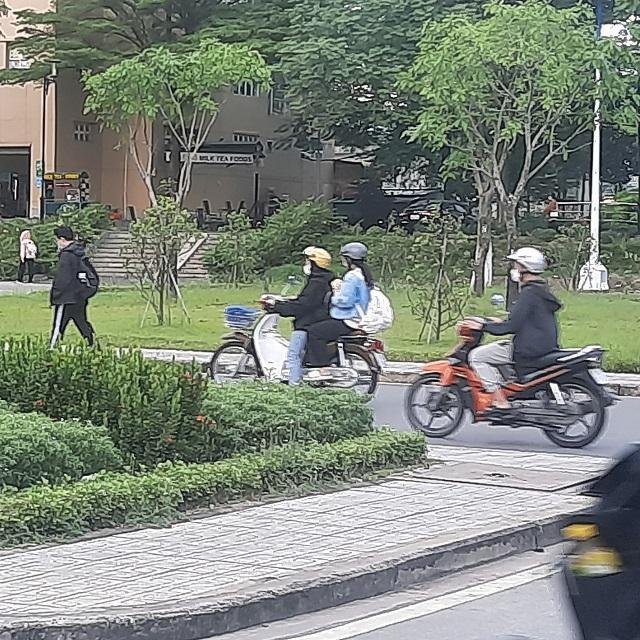Helmet: (509, 246, 546, 282)
